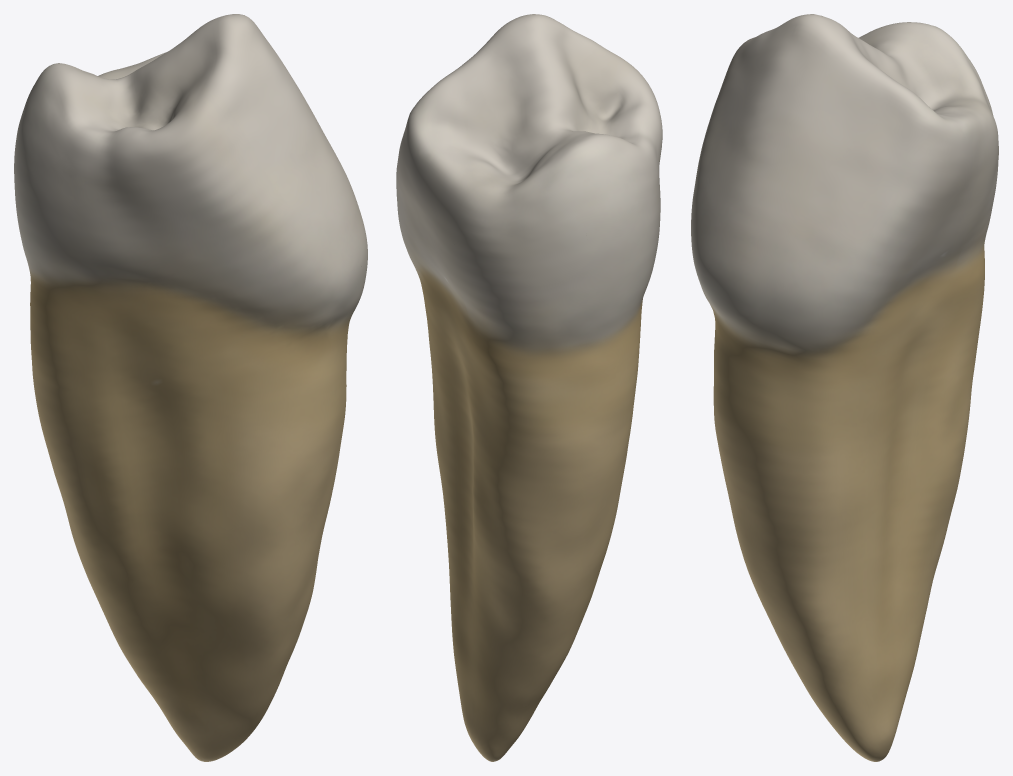
The model's file is mandibular_first_premolar.glb.
The picture shows the model from 3 angles, left to right: view 1: azimuth 30°, elevation 25°; view 2: azimuth 150°, elevation 25°; view 3: azimuth 270°, elevation 25°; orthographic projection. The views are drawn at different scales.
Parts seen in each view (by area): view 1: Object_2; view 2: Object_2; view 3: Object_2.
Part boxes in pixels (bbox=[...]): Object_2: bbox=[14, 14, 367, 761]; Object_2: bbox=[396, 14, 662, 761]; Object_2: bbox=[691, 14, 998, 761].
Size of the model in its own units: 0.3401 by 0.8793 by 0.3319.
Materials: 1 (1 with a texture image).
